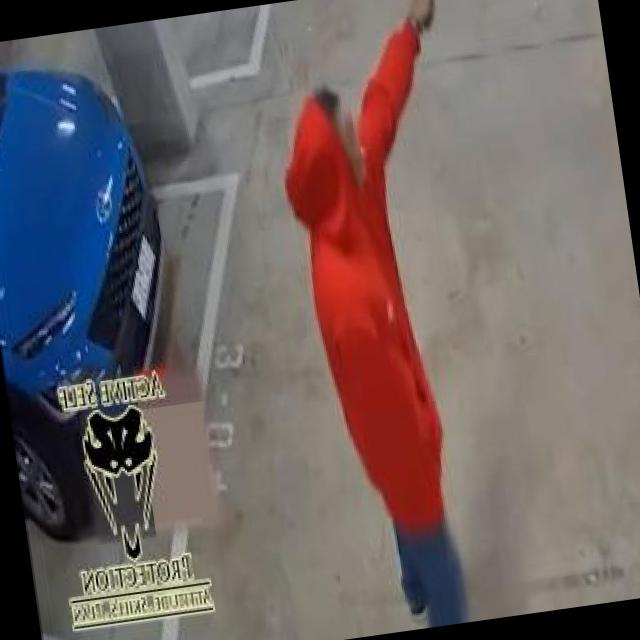Guns: (400, 0, 457, 37)
